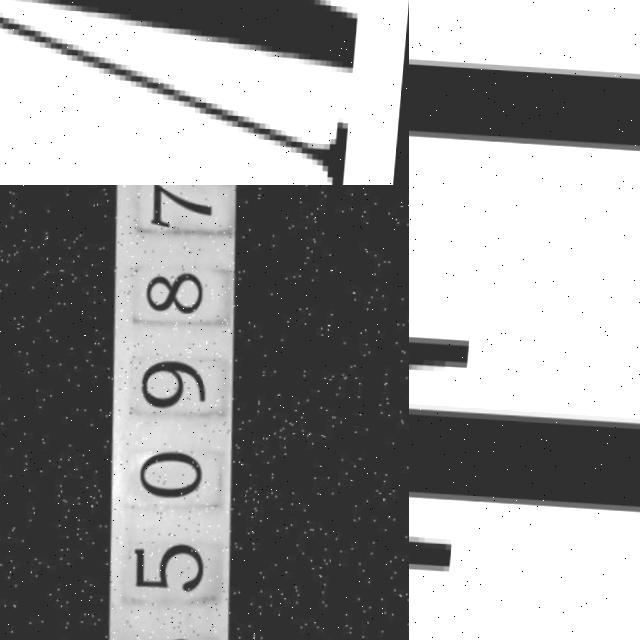0: (122, 441, 223, 511)
3: (117, 625, 223, 640)
5: (118, 530, 227, 608)
7: (130, 185, 231, 239)
8: (128, 262, 222, 327)
9: (123, 348, 226, 421)
L: (409, 0, 640, 185)
N: (0, 0, 383, 185)
T: (409, 317, 640, 598)
